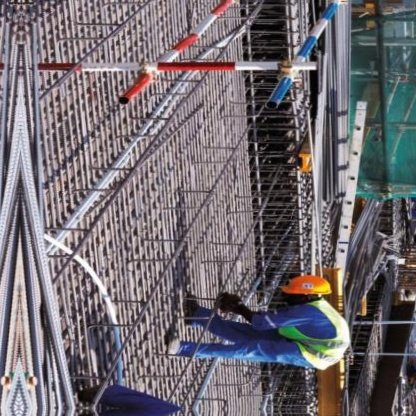vest: (277, 297, 354, 373)
yellow: (277, 269, 334, 297)
